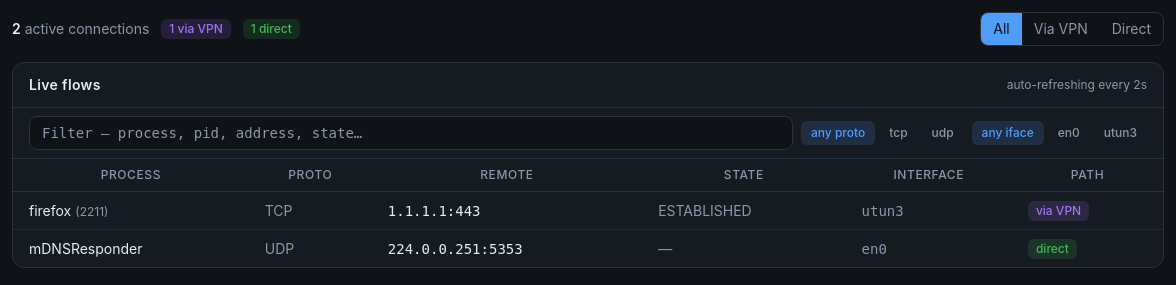
Scenario: Flows view › filters by free text (process or pid) and shows the match count
Expected: the text "firefox" is shown, [29,202,71,218]
Type "2211" into the field named "Filter flows" at (411, 133), box [29,116,793,150]
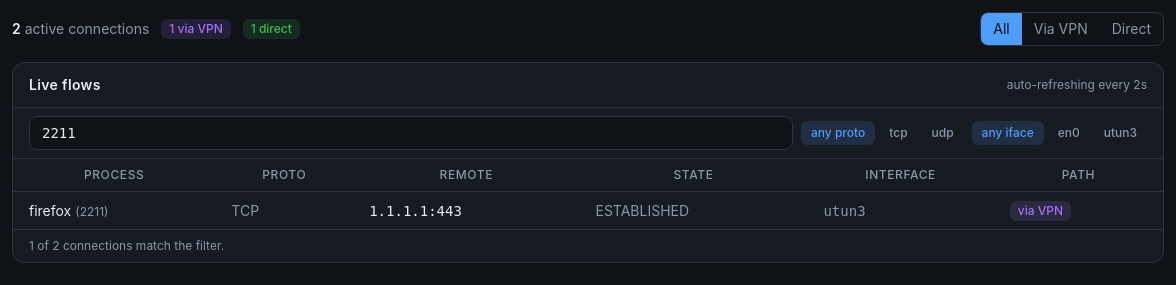
Expected: the text "firefox" is shown, [29,202,71,218]
Now the text "mDNSResponder" is gone
Now the text "1 of 2 connections match the filter." is shown, box [13,229,1163,262]
